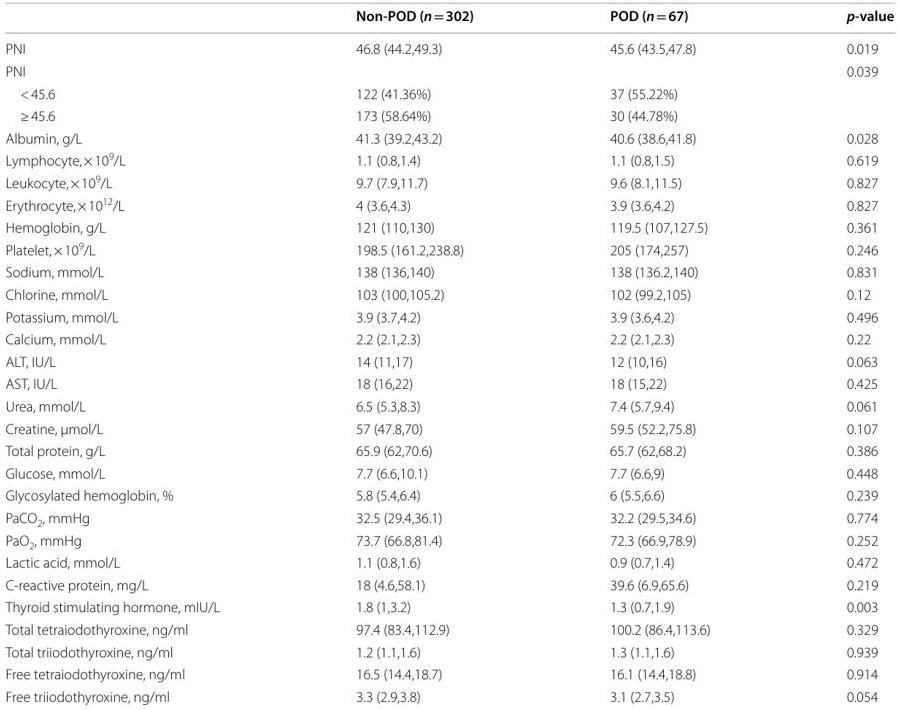table: (4, 5, 893, 704)
table column: (4, 5, 287, 704), (287, 5, 541, 704), (541, 5, 778, 704), (778, 5, 893, 704)
table column header: (4, 5, 893, 33)
table row: (4, 5, 893, 33), (4, 33, 893, 59), (4, 192, 893, 216), (4, 506, 893, 530), (4, 59, 893, 82), (4, 237, 893, 260), (4, 260, 893, 283), (4, 327, 893, 350), (4, 394, 893, 417), (4, 461, 893, 484), (4, 595, 893, 618), (4, 662, 893, 685), (4, 82, 893, 104), (4, 104, 893, 126), (4, 126, 893, 148), (4, 148, 893, 170), (4, 170, 893, 192), (4, 283, 893, 305), (4, 305, 893, 327), (4, 350, 893, 372), (4, 372, 893, 394), (4, 417, 893, 439), (4, 439, 893, 461), (4, 484, 893, 506), (4, 530, 893, 552), (4, 573, 893, 595), (4, 618, 893, 640), (4, 640, 893, 662), (4, 216, 893, 237), (4, 552, 893, 573), (4, 685, 893, 704)
